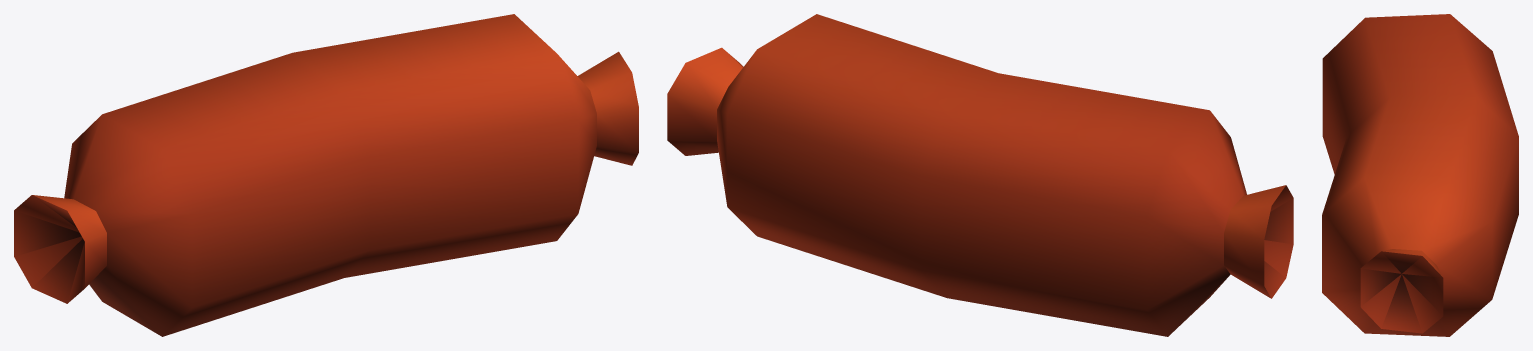
File: sausage.fbx
3 views of the same model, side by side, from view 1: azimuth 30°, elevation 25°; view 2: azimuth 150°, elevation 25°; view 3: azimuth 270°, elevation 25° (orthographic). The views are drawn at different scales.
Parts seen in each view (by area): view 1: sausage; view 2: sausage; view 3: sausage.
Part boxes in pixels (<box>): sausage: <box>14,14,638,336</box>; sausage: <box>667,14,1293,336</box>; sausage: <box>1322,14,1518,336</box>.
Size of the model in its own units: 48.01 by 14.38 by 16.46.
